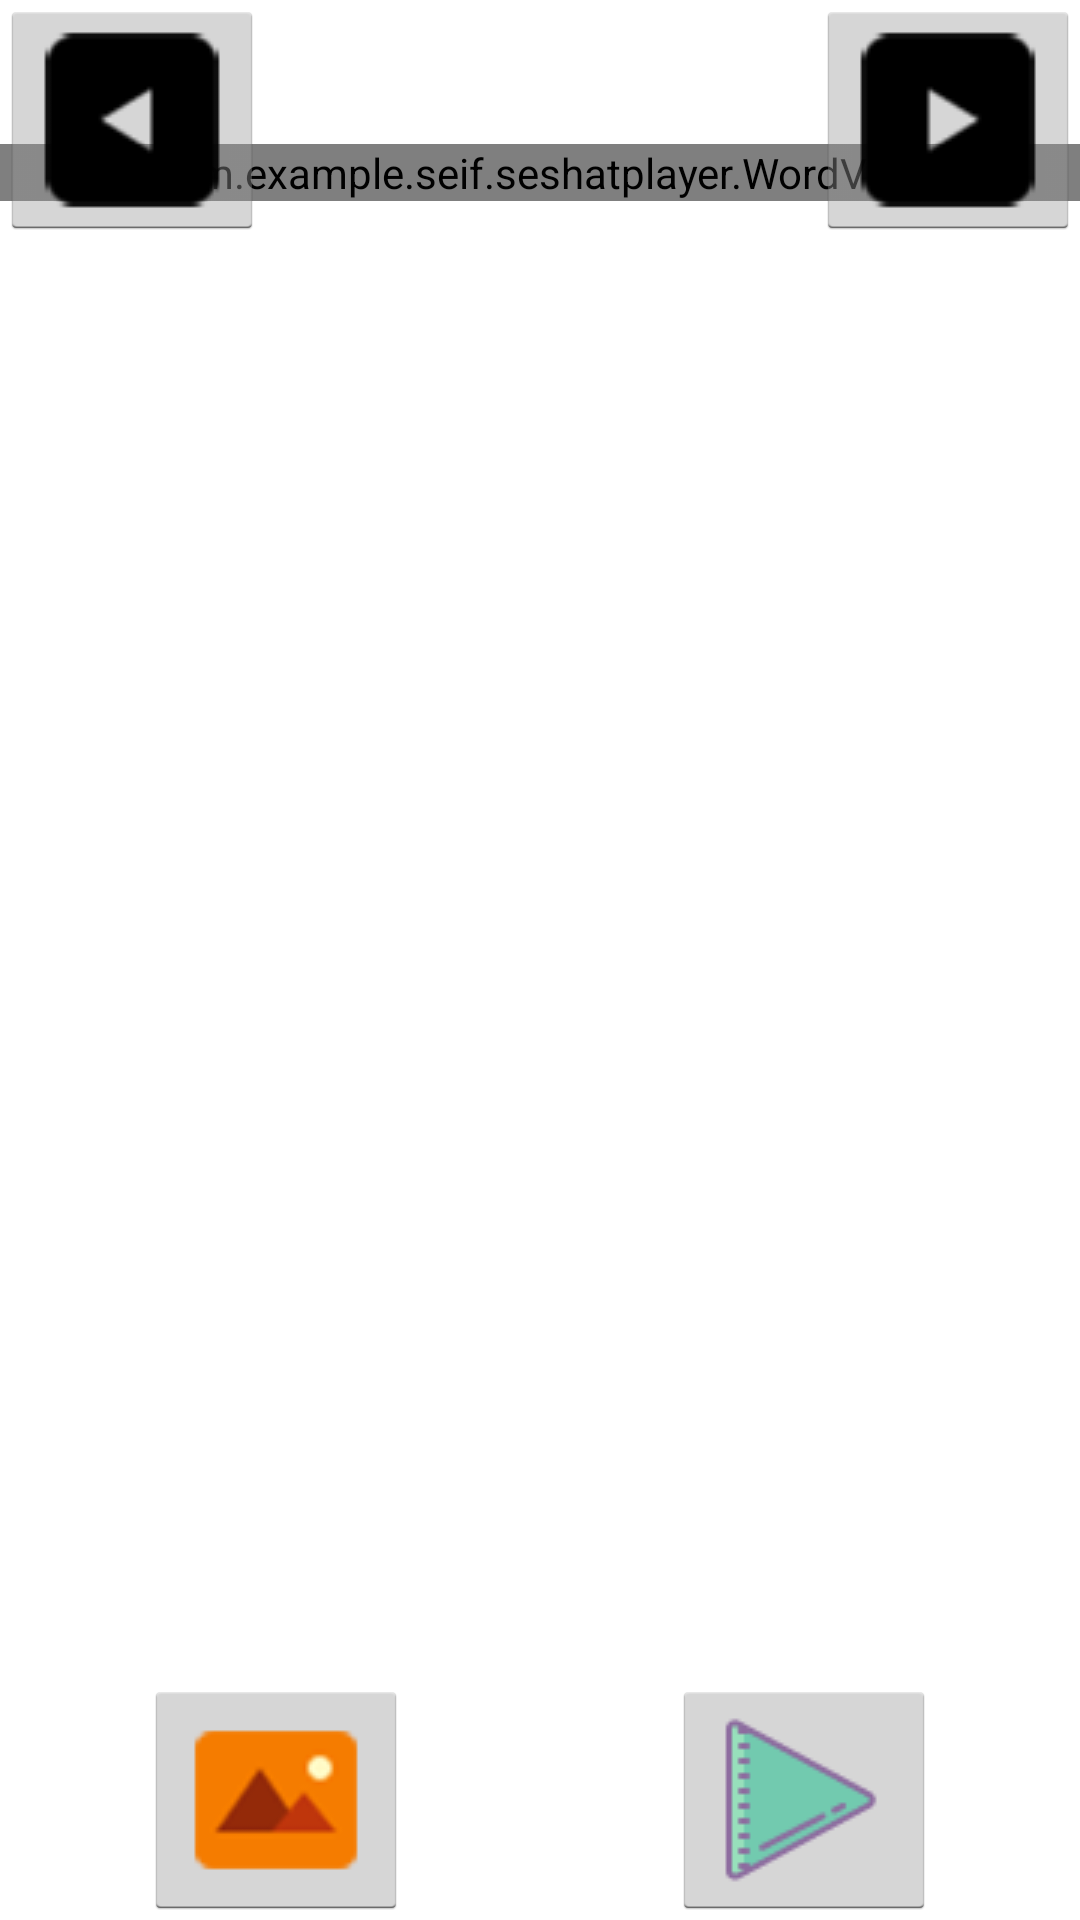

Named icons in this screenshot (1080px×1920px) and their centers, (x,y):
photo: (276,1801)
